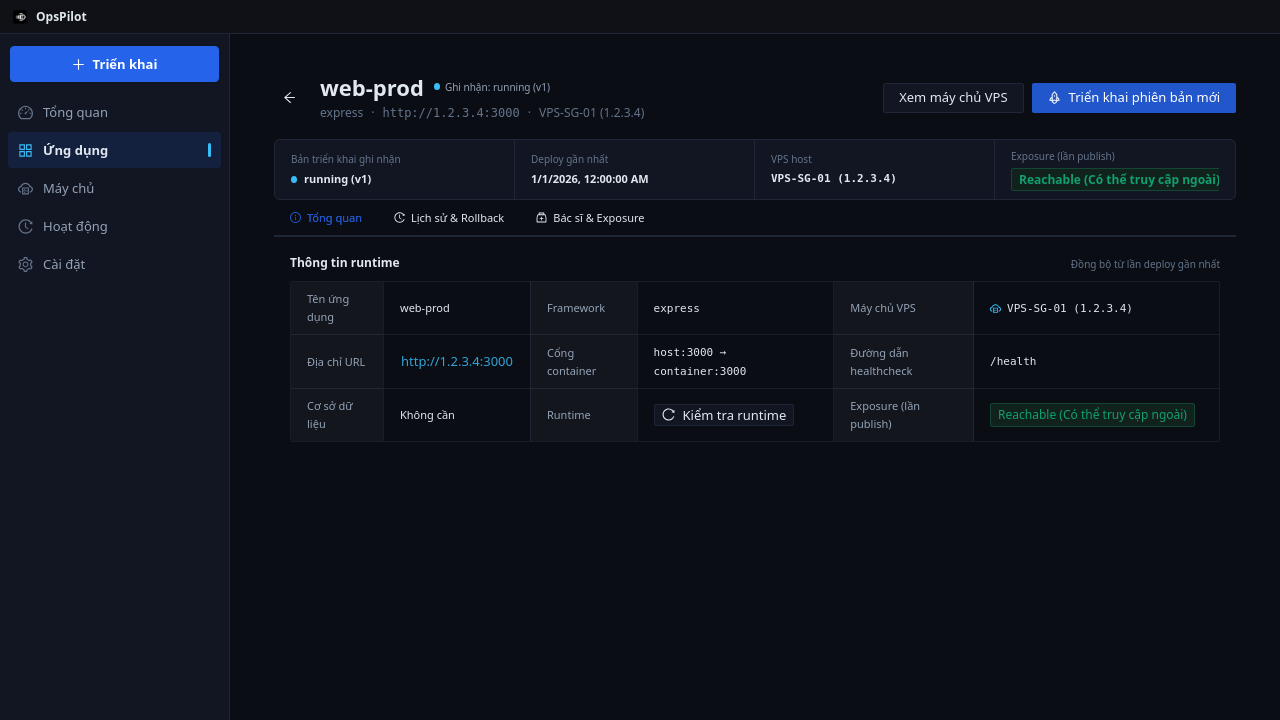
App — UI-1a Desktop Shell & Navigation › bat dau voi deployPreselect khac app dang xem va gap loi IPC khi tai app:get: xoa preselect cu ngay lap tuc, nguoi dung van o trang hien tai, khong tu mo Deploy
expect the heading "web-prod" is shown: met, box [320,72,424,102]
Click the button "Triển khai". click: (114, 64)
box: [10,46,219,82]
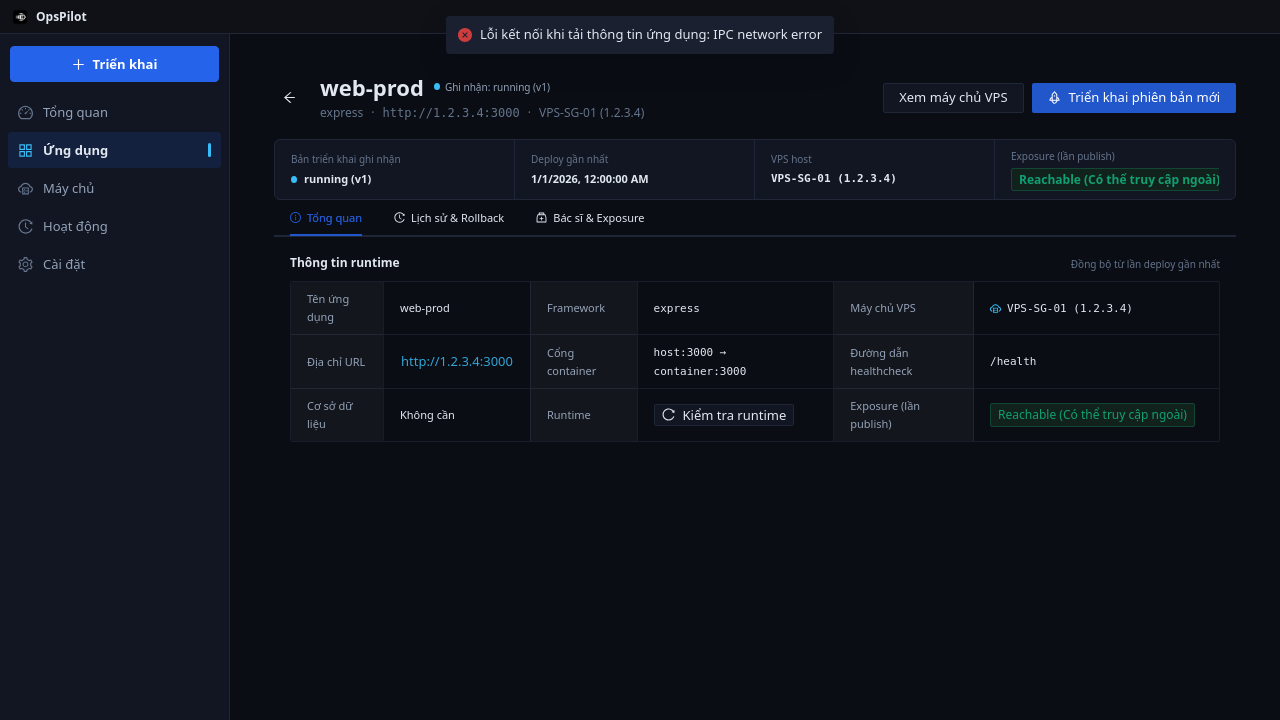
expect the text "Lỗi kết nối khi tải thông tin ứng dụng: IPC network error" is shown: met, box [480,24,822,45]
